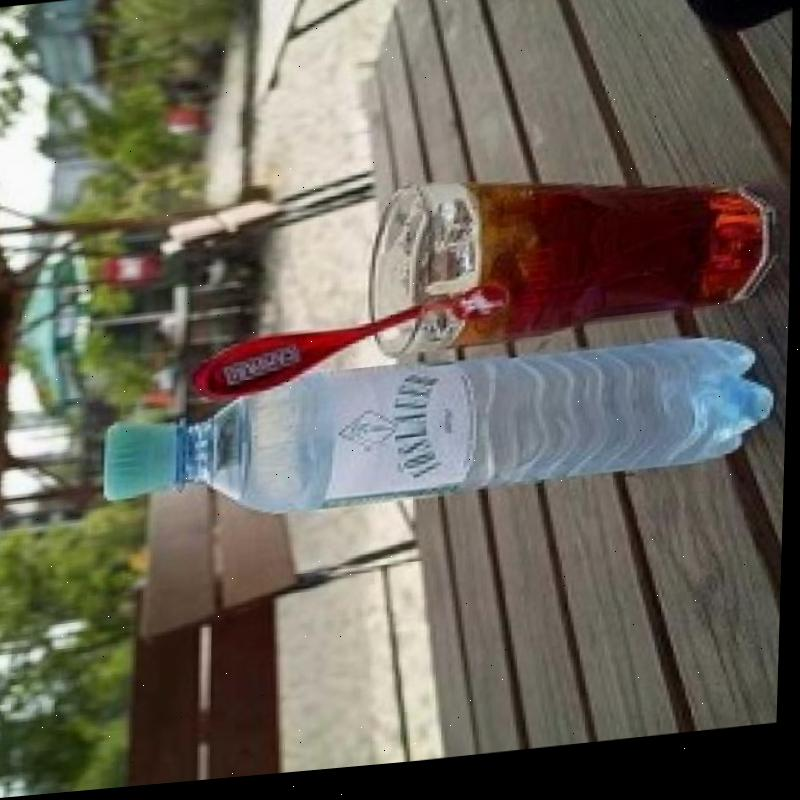botella: (101, 339, 779, 536)
